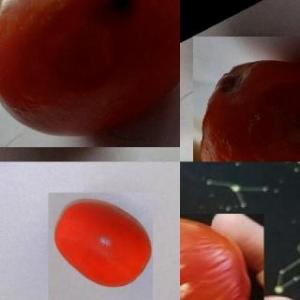tomato: (49, 192, 153, 300)
